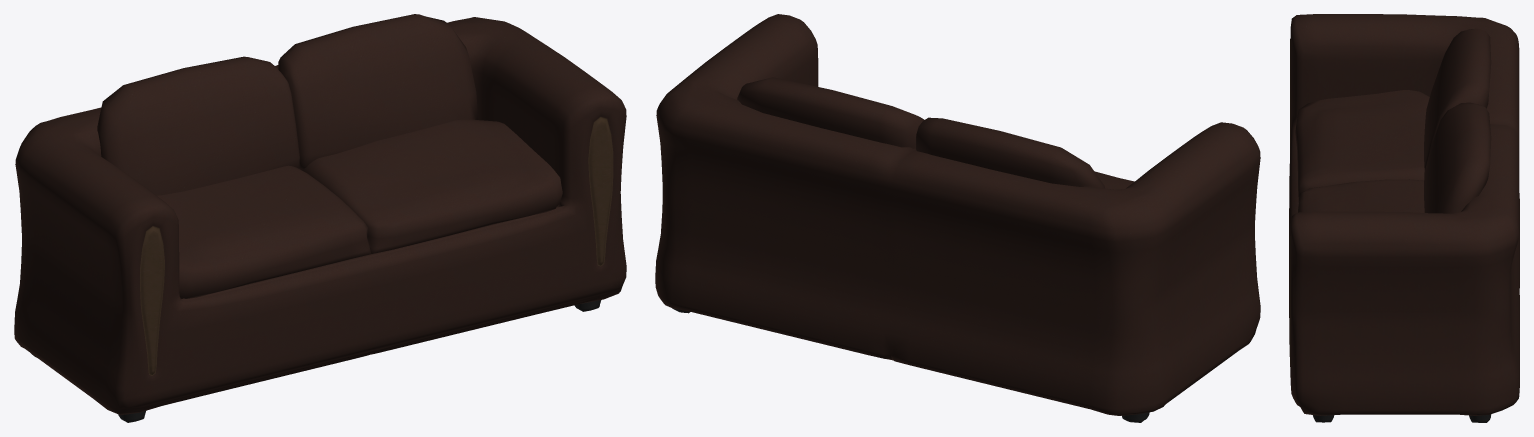
The model's file is leather_couch.glb.
The picture shows the model from 3 angles, left to right: view 1: azimuth 30°, elevation 25°; view 2: azimuth 150°, elevation 25°; view 3: azimuth 270°, elevation 25°; orthographic projection. The views are drawn at different scales.
Parts seen in each view (by area): view 1: LeatherCouch; view 2: LeatherCouch; view 3: LeatherCouch.
Part boxes in pixels (x1=…): LeatherCouch: x1=14, y1=14, x2=626, y2=422; LeatherCouch: x1=655, y1=14, x2=1260, y2=422; LeatherCouch: x1=1289, y1=14, x2=1519, y2=422.
Bounding box in the file's own units: 2.36 × 1.11 × 1.02.
3 materials, 2 textured.
